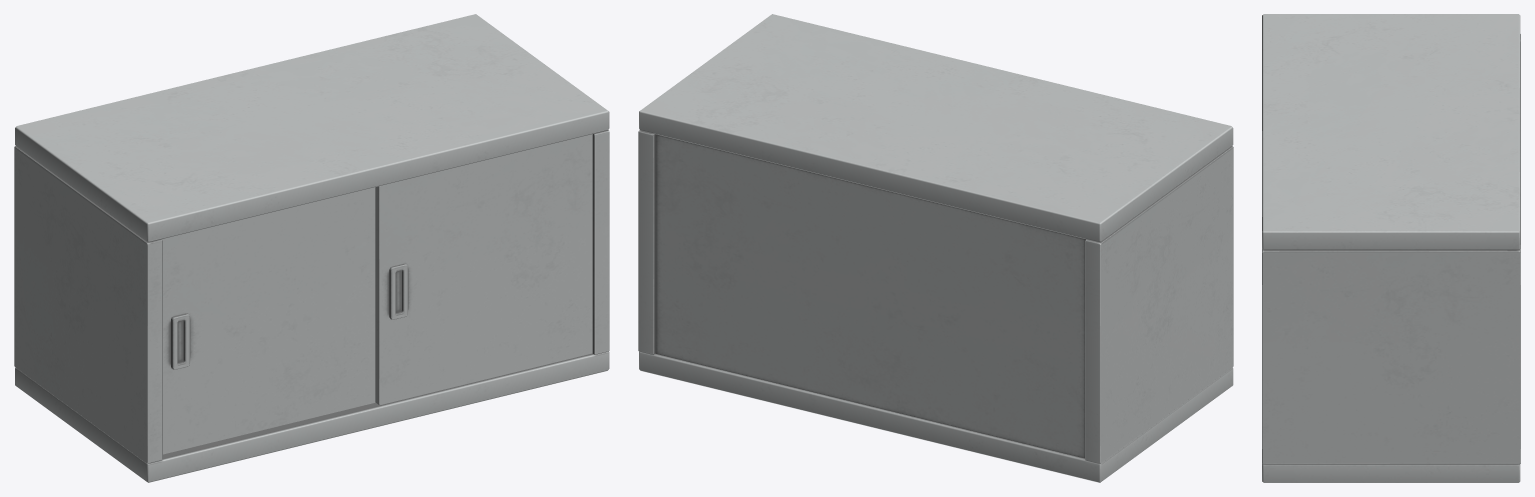
The model's file is CabinetSteelHanging_01.FBX.
The picture shows the model from 3 angles, left to right: view 1: azimuth 30°, elevation 25°; view 2: azimuth 150°, elevation 25°; view 3: azimuth 270°, elevation 25°; orthographic projection. The views are drawn at different scales.
Visible parts, largest first — view 1: CabinetSteelHanging_01; view 2: CabinetSteelHanging_01; view 3: CabinetSteelHanging_01.
Part boxes in pixels (x1=…): CabinetSteelHanging_01: x1=14, y1=14, x2=609, y2=482; CabinetSteelHanging_01: x1=638, y1=14, x2=1233, y2=482; CabinetSteelHanging_01: x1=1262, y1=14, x2=1520, y2=482.
Size of the model in its own units: 120 by 64.59 by 60.13.
1 material, 1 textured.
